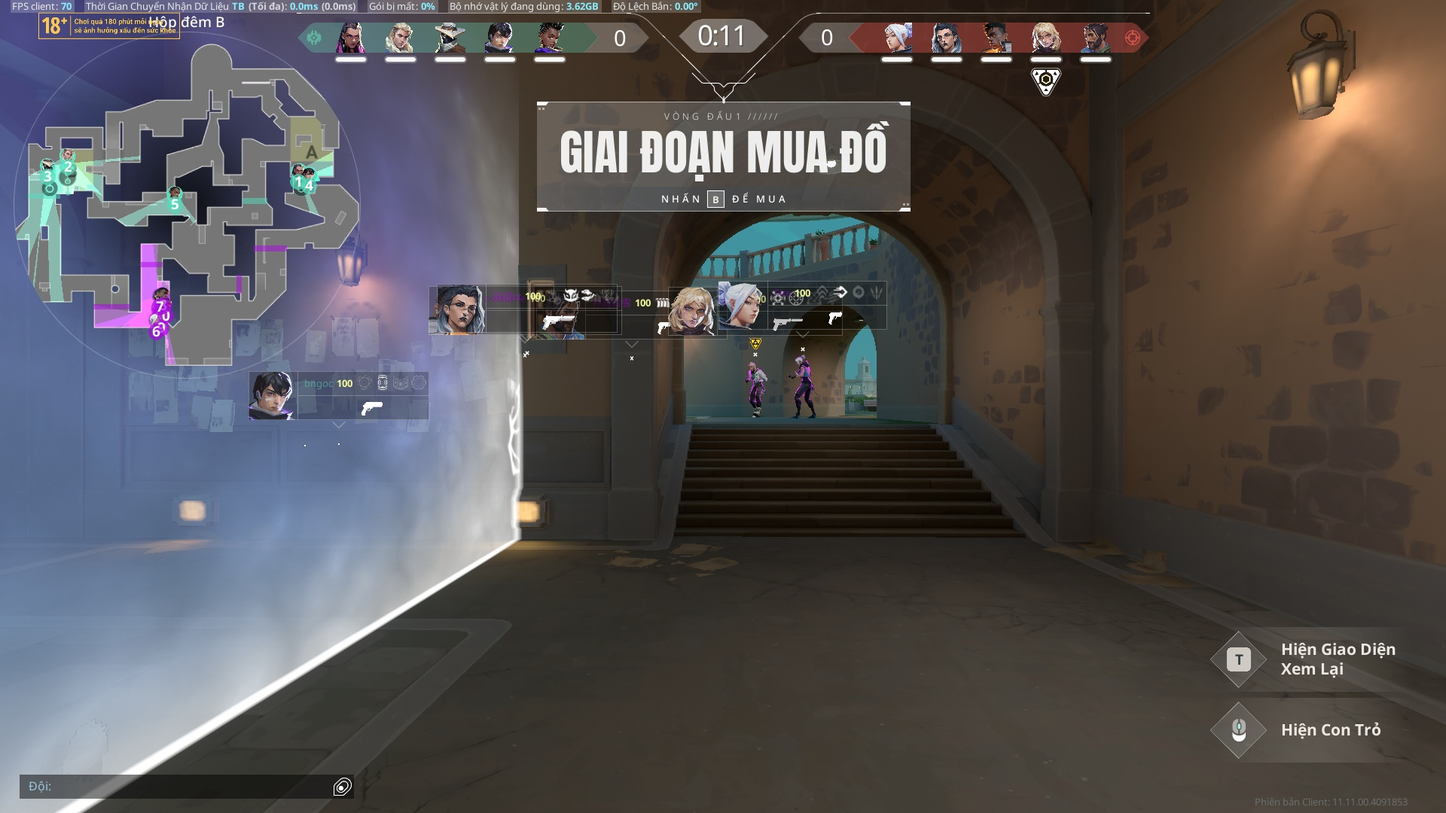body: (798, 362, 812, 381), (749, 369, 766, 384)
head: (747, 361, 758, 371), (794, 356, 804, 365)
